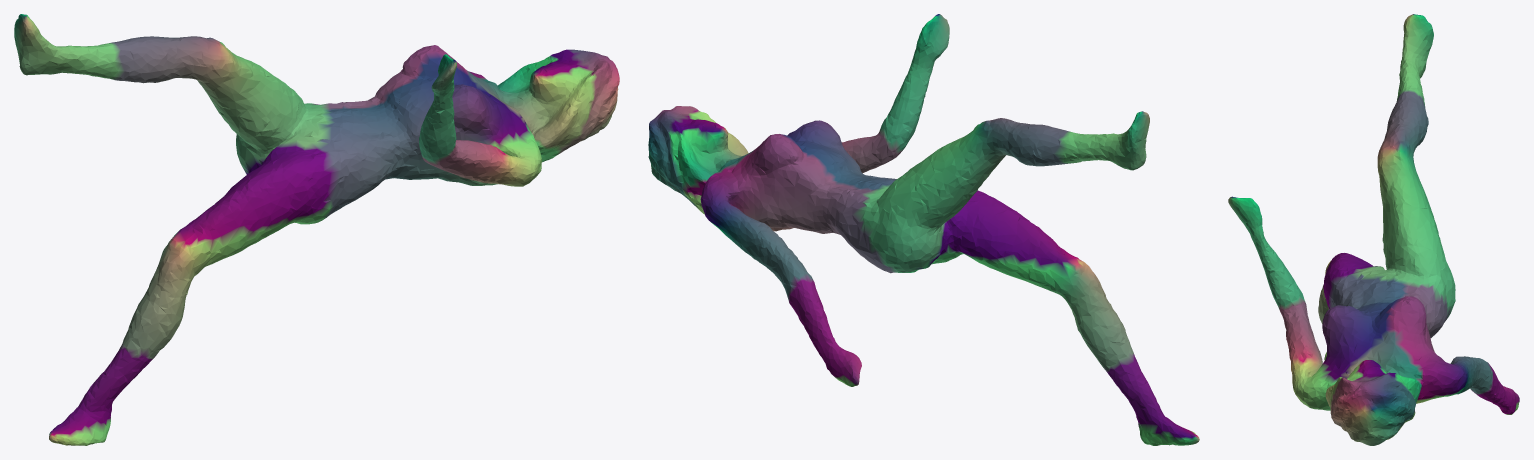
File: woman-16.off.obj
3 views of the same model, side by side, from view 1: azimuth 30°, elevation 25°; view 2: azimuth 150°, elevation 25°; view 3: azimuth 270°, elevation 25° (orthographic). The views are drawn at different scales.
Size of the model in its own units: 1.41 by 0.9277 by 0.6941.
